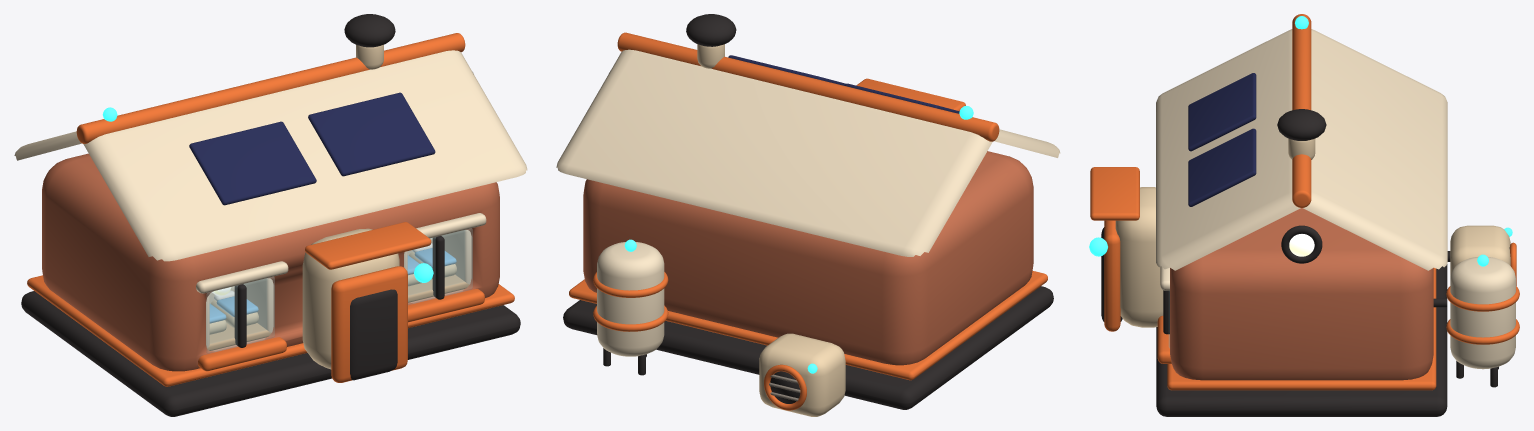
File: brickhome-1i.glb
3 renders of one model, left to right at view 1: azimuth 30°, elevation 25°; view 2: azimuth 150°, elevation 25°; view 3: azimuth 270°, elevation 25°, orthographic. The views are drawn at different scales.
Visible parts, largest first — view 1: Cube.016, Cube.001, Cube.002, Cube, Cube.036, Cube.013, Cube.007, Cube.003, Cube.004, Cube.008, Sphere.002; view 2: Cube.016, Cube.001, Cube.002, Cube, Cube.007, Cube.036; view 3: Cube.016, Cube.001, Cube.002, Cube, Cube.007, Cube.036, Sphere.002, Cylinder.002.
Boxes of the visible parts, <box> form: Cube.016: <box>14,50,527,293</box>; Cube.001: <box>42,153,499,371</box>; Cube.002: <box>27,33,514,386</box>; Cube: <box>21,14,520,416</box>; Cube.036: <box>189,92,435,205</box>; Cube.013: <box>206,228,472,353</box>; Cube.007: <box>209,44,456,369</box>; Cube.003: <box>206,230,471,347</box>; Cube.004: <box>207,275,469,350</box>; Cube.008: <box>209,248,456,323</box>; Sphere.002: <box>102,107,433,282</box>; Cube.016: <box>556,49,1060,356</box>; Cube.001: <box>583,151,1033,365</box>; Cube.002: <box>569,32,1047,410</box>; Cube: <box>563,14,1053,409</box>; Cube.007: <box>697,44,845,416</box>; Cube.036: <box>728,55,959,113</box>; Cube.016: <box>1156,29,1515,369</box>; Cube.001: <box>1170,208,1433,380</box>; Cube.002: <box>1090,14,1519,390</box>; Cube: <box>1101,109,1509,416</box>; Cube.007: <box>1115,138,1510,327</box>; Cube.036: <box>1188,73,1256,206</box>; Sphere.002: <box>1089,16,1512,266</box>; Cylinder.002: <box>1289,234,1314,256</box>.
Size of the model in its own units: 1.57 by 1.09 by 1.57.
